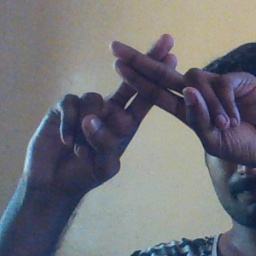F: (71, 27, 230, 147)
